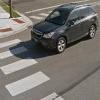Crosswalk: (1, 40, 48, 100)
